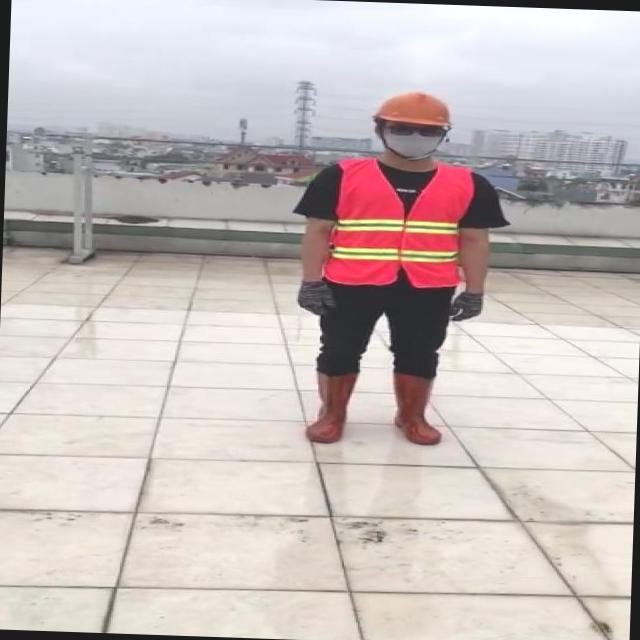boots: (296, 372, 356, 447), (390, 374, 444, 442)
gloves: (371, 91, 450, 160), (296, 276, 336, 314), (446, 286, 486, 323)
helmet: (373, 89, 457, 130)
vest: (323, 158, 475, 289)
